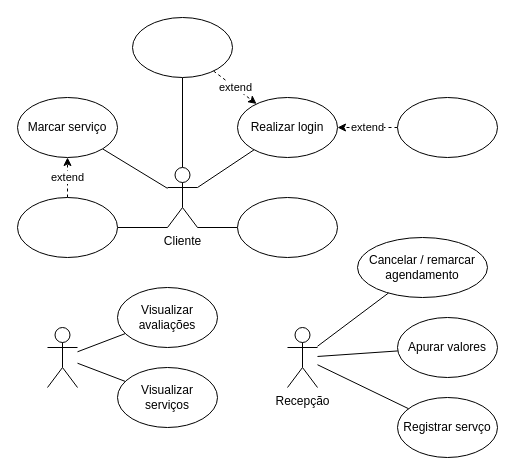
The diagram is 515 pixels wide and 475 high, and some of its shapes have lost their labels. Each missing label, with the centre of its shape:
Avaliar serviço.: the point at 182,47
Cadastrar profissional: the point at 67,227
Cadastrar usuário: the point at 447,127
Confirmar agendamento: the point at 287,227
Gerente: the point at 62,357
